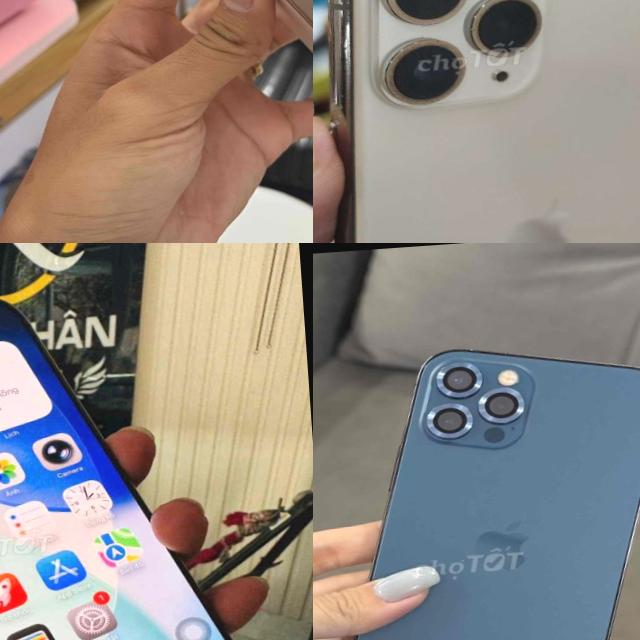gen_11: (313, 0, 640, 243)
gen_12_13: (313, 330, 640, 640)
gen_16: (0, 274, 288, 640), (62, 0, 313, 151)
scratch: (330, 0, 620, 91)
